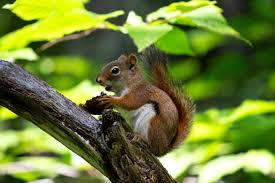Ardilla: (91, 43, 200, 165)
